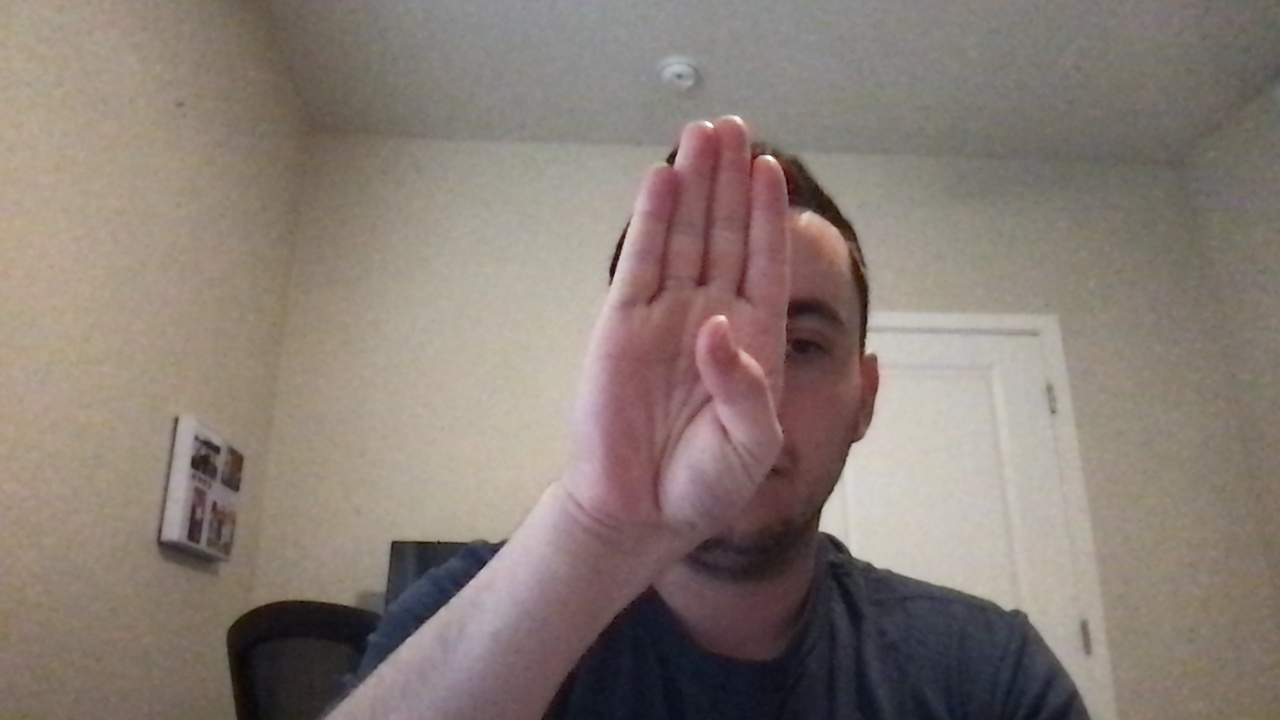b: (556, 117, 801, 546)
